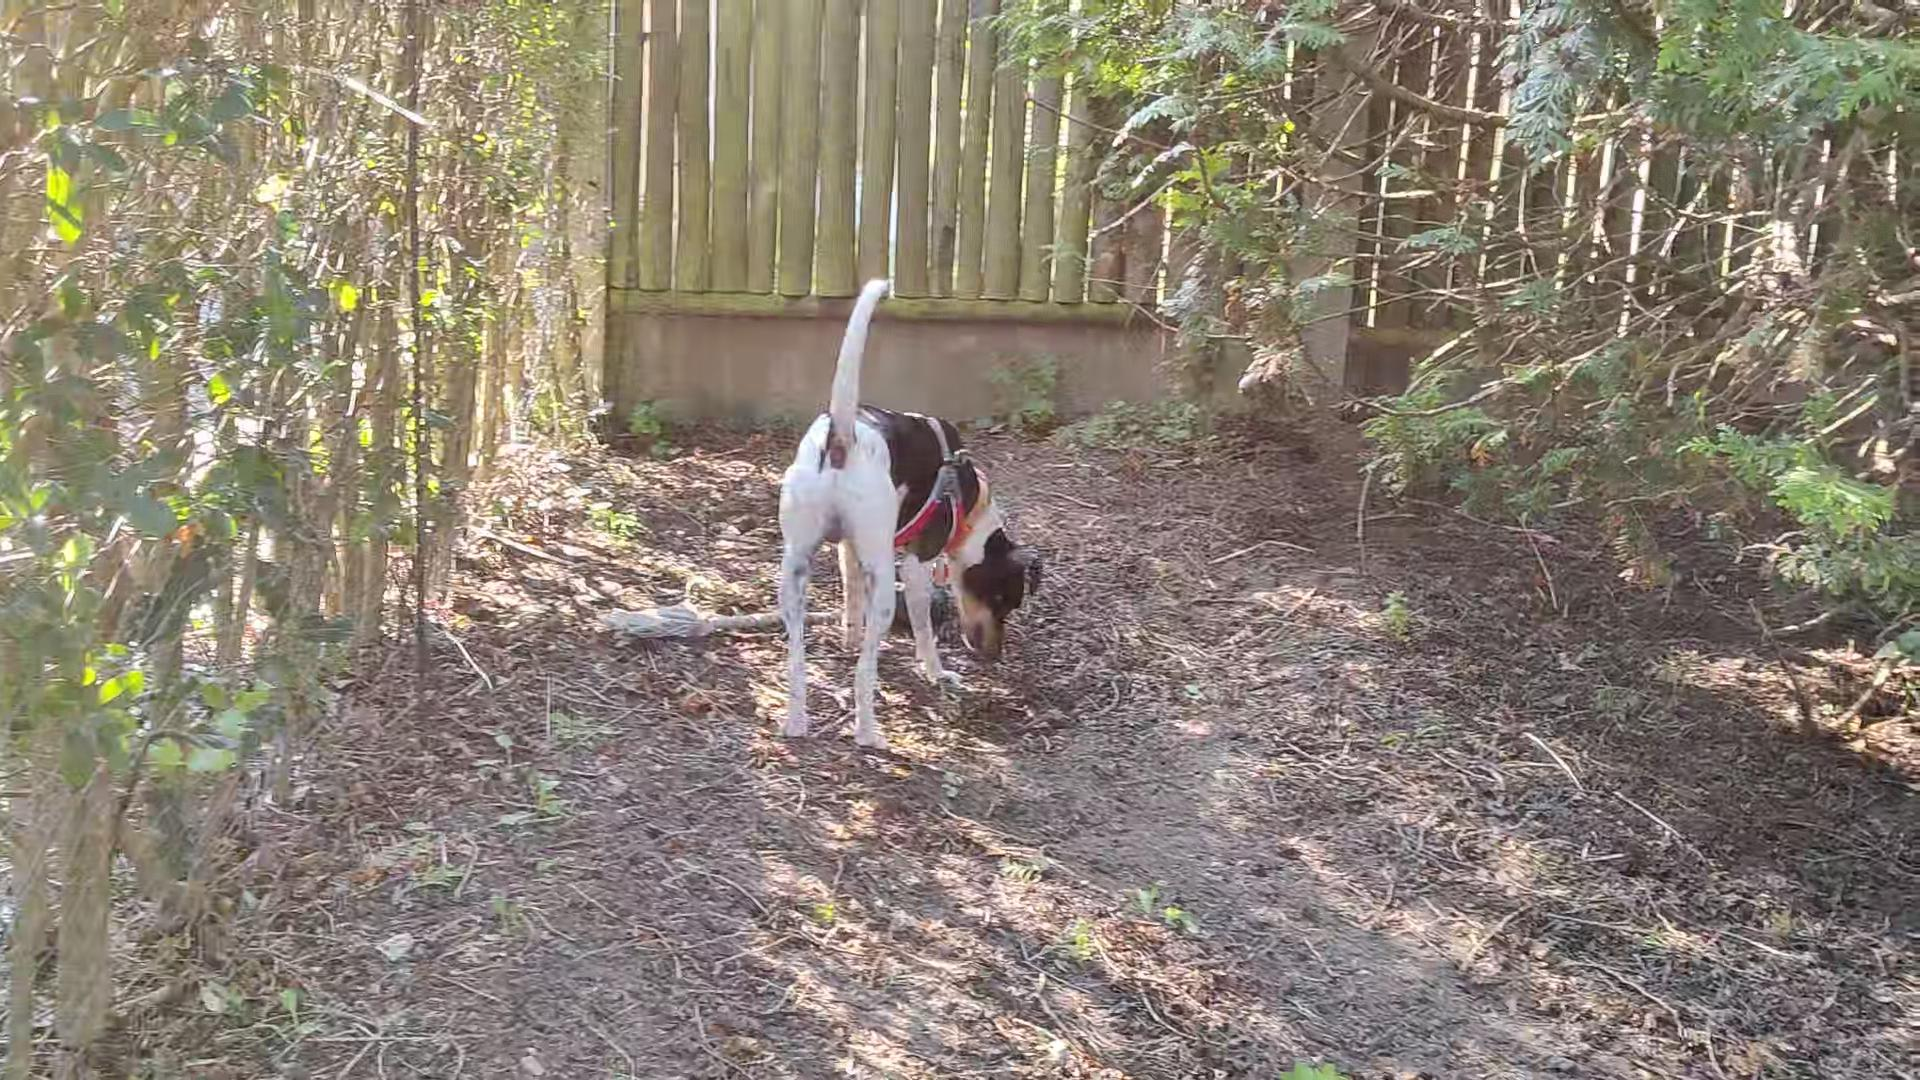Dog: (756, 262, 1062, 782)
